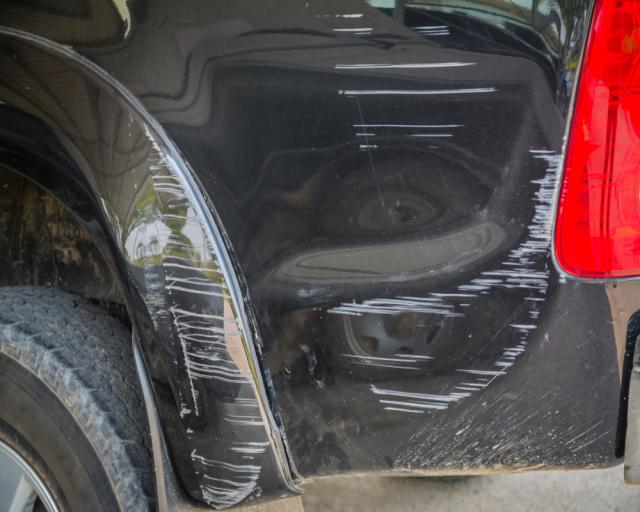scratch: (329, 137, 565, 416), (134, 122, 269, 512), (309, 0, 491, 158)
